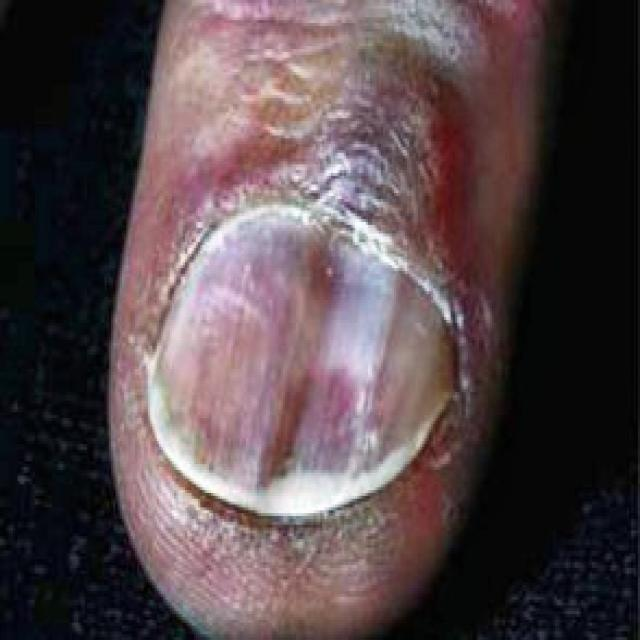Seborrheic-Keratoses-and-other-Benign-Tumors: (155, 49, 494, 523)
